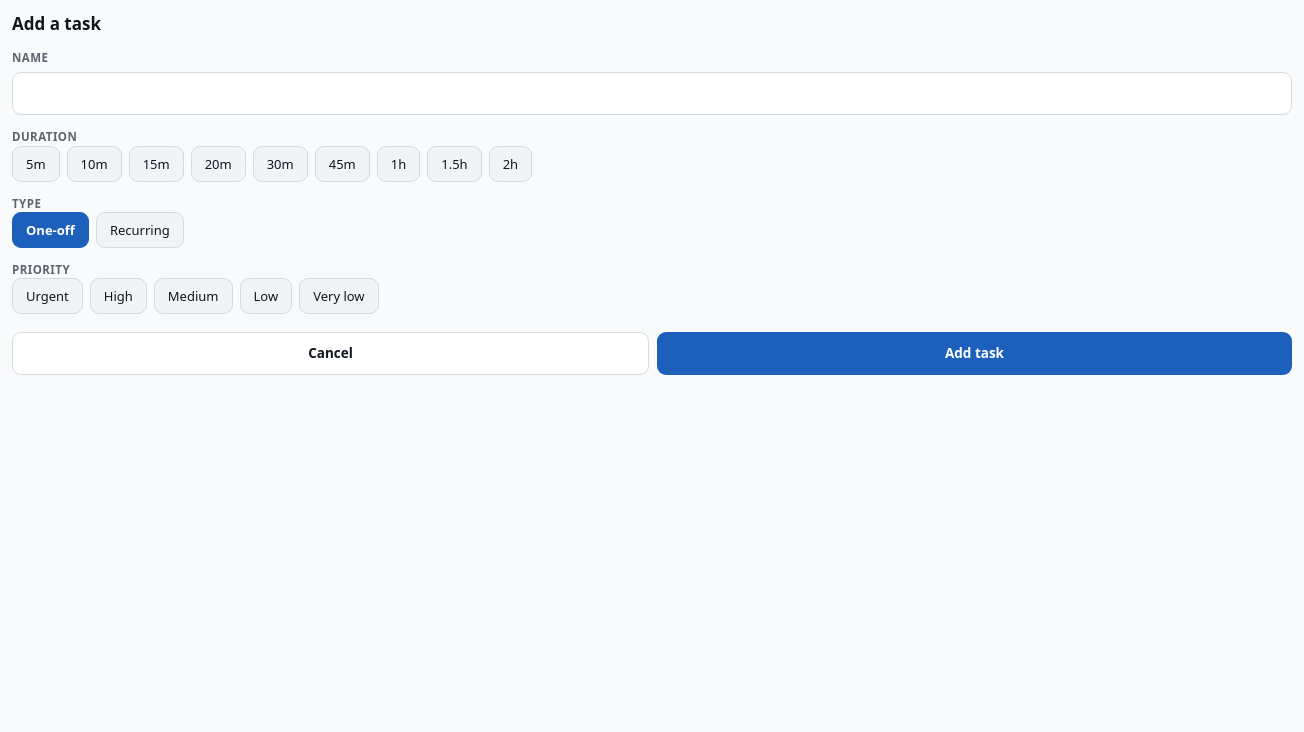
Test: 9.4 the monthly builder single-selects a position and a weekday › offers the last position alongside first through fourth
This screenshot has width=1304, height=732.
Click the button "Recurring" at (140, 230), box x1=96 y1=212 x2=184 y2=248
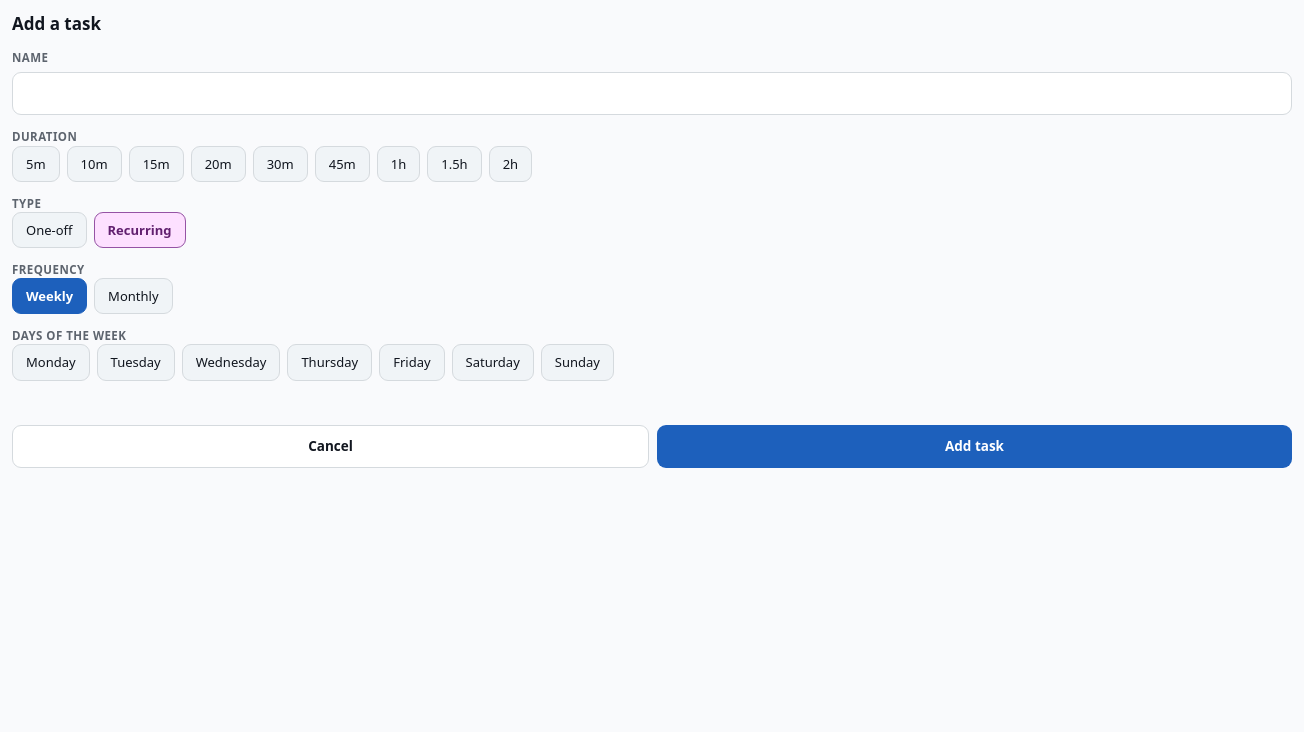
Click the button "Monthly" at (133, 296), box x1=94 y1=278 x2=172 y2=314
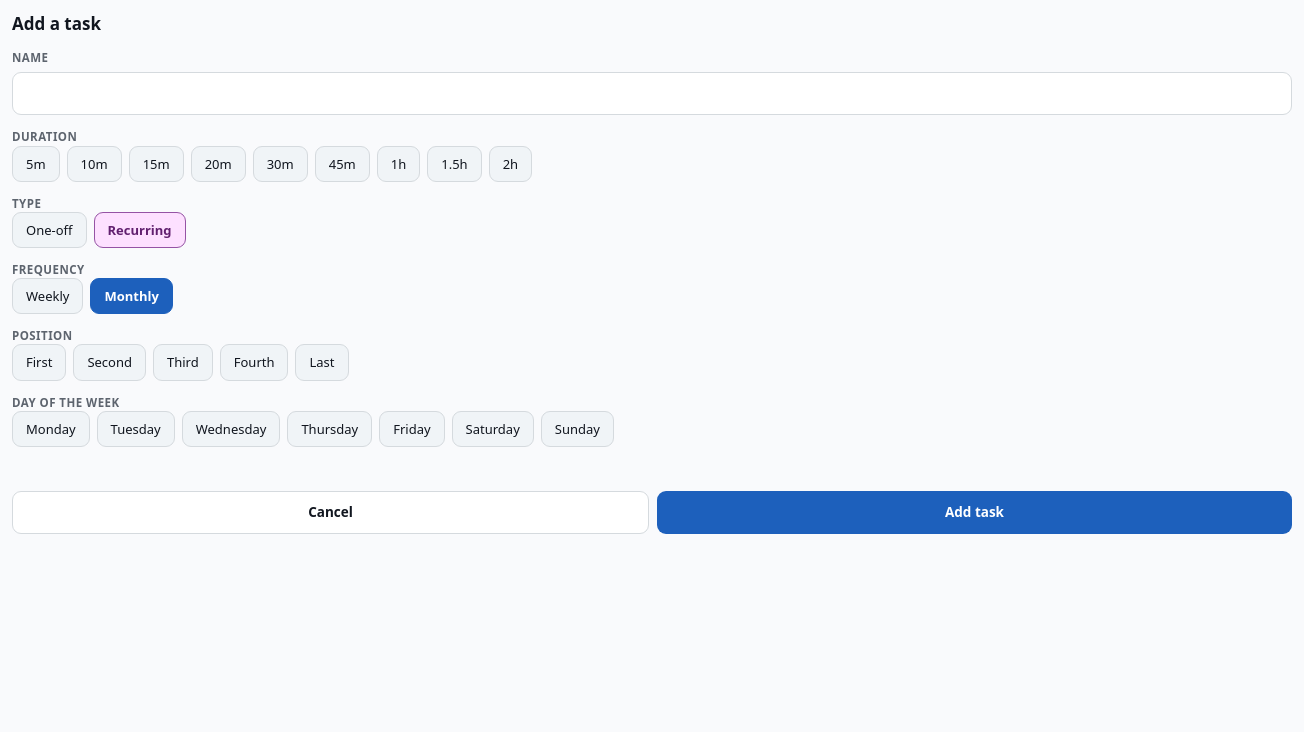
Now the button "First" is shown, box x1=12 y1=344 x2=66 y2=381
Now the button "Second" is shown, box x1=73 y1=344 x2=146 y2=381
Now the button "Third" is shown, box x1=153 y1=344 x2=213 y2=381
